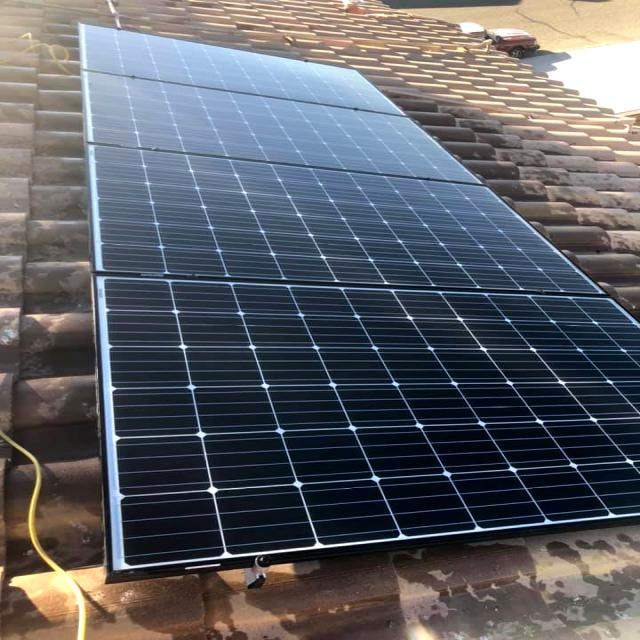crack: (50, 11, 640, 640)
